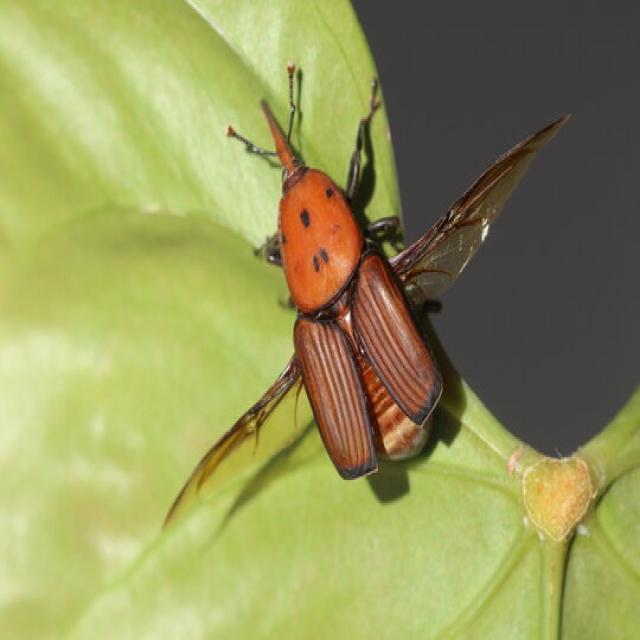Red-palm-weevil: (223, 48, 468, 481)
